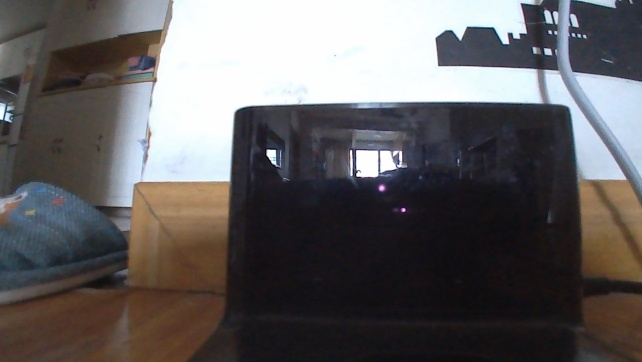shoe: (0, 178, 135, 310)
wire: (549, 0, 641, 206), (582, 270, 641, 305)
